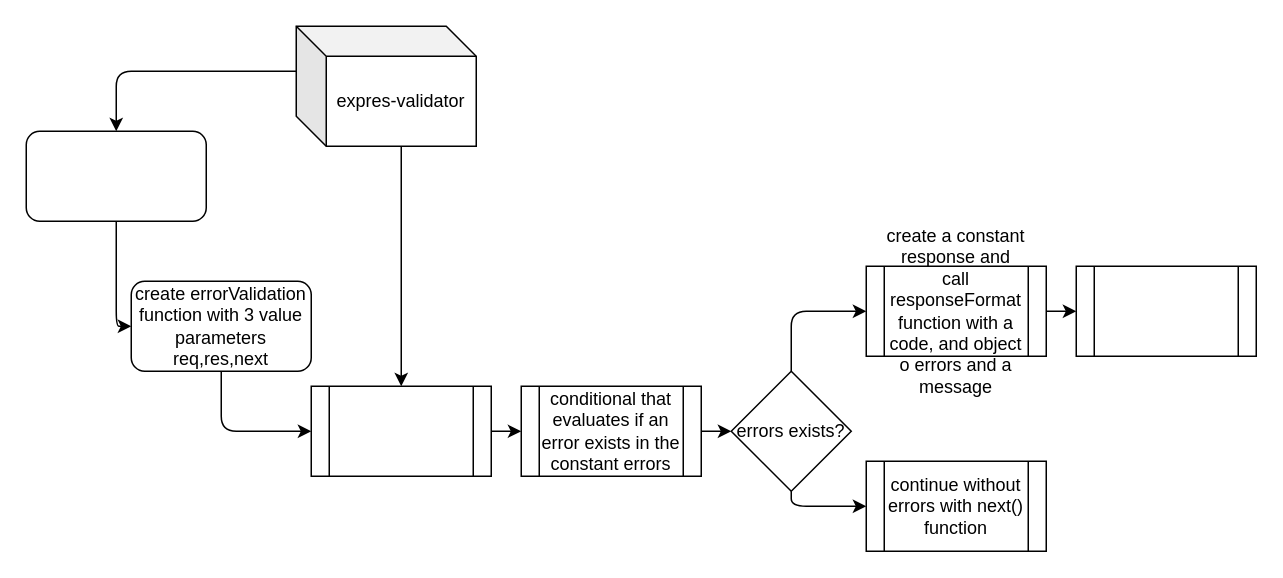
The diagram is 1283 pixels wide and 578 high, and some of its shapes have lost their labels. Each missing label, with the centre of its shape:
"create a constant that calls validationResult function with 1 parameter req" goes at point 400,430.
"import npm & Custom modules" goes at point 115,175.
"return res with code and json response" goes at point 1165,310.
